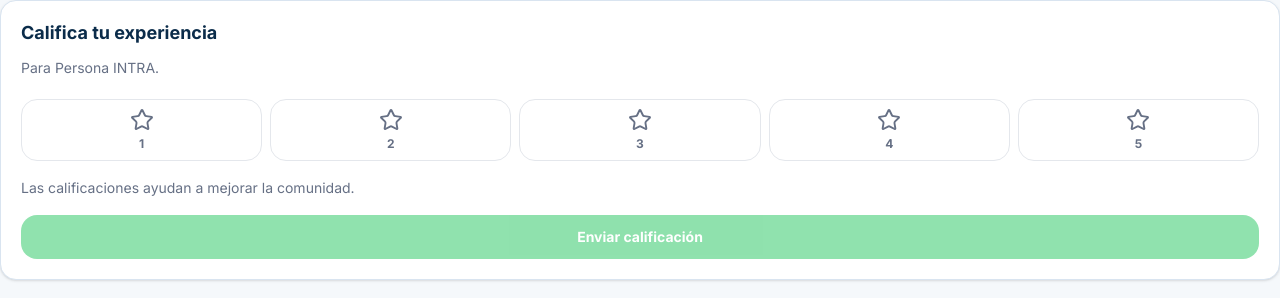
Test: ReviewComposer › keeps submit disabled until a rating is selected
Check: the button "Enviar calificación" is disabled, box left=21, top=215, right=1259, bottom=259
Click the button named "Calificar con 4 estrellas". click: (889, 130)
box: left=769, top=99, right=1010, bottom=161
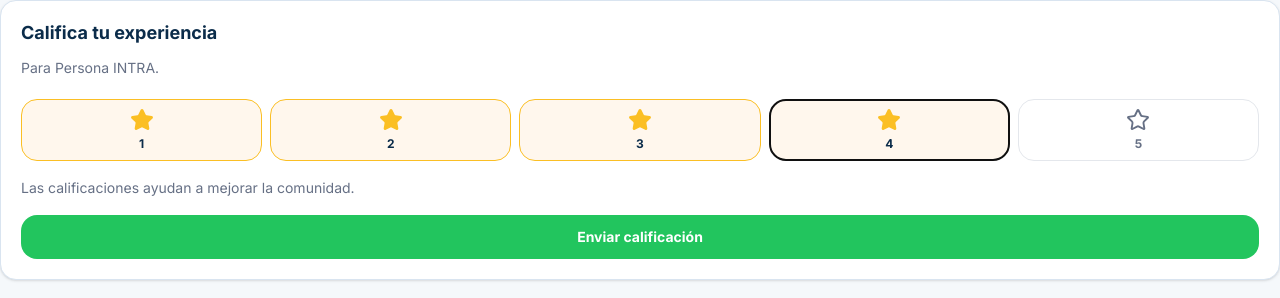
Check: the button "Enviar calificación" is enabled
Click the button "Enviar calificación". click: (640, 237)
box: left=21, top=215, right=1259, bottom=259
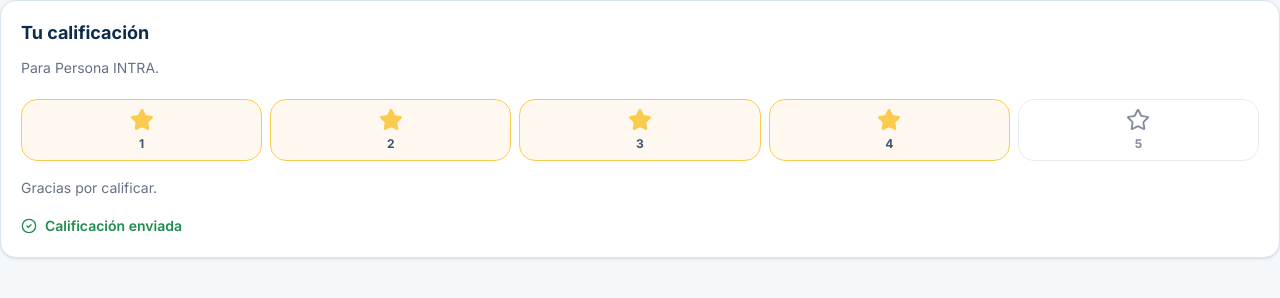
Check: the text "Calificación enviada" is shown, box left=21, top=217, right=182, bottom=234
